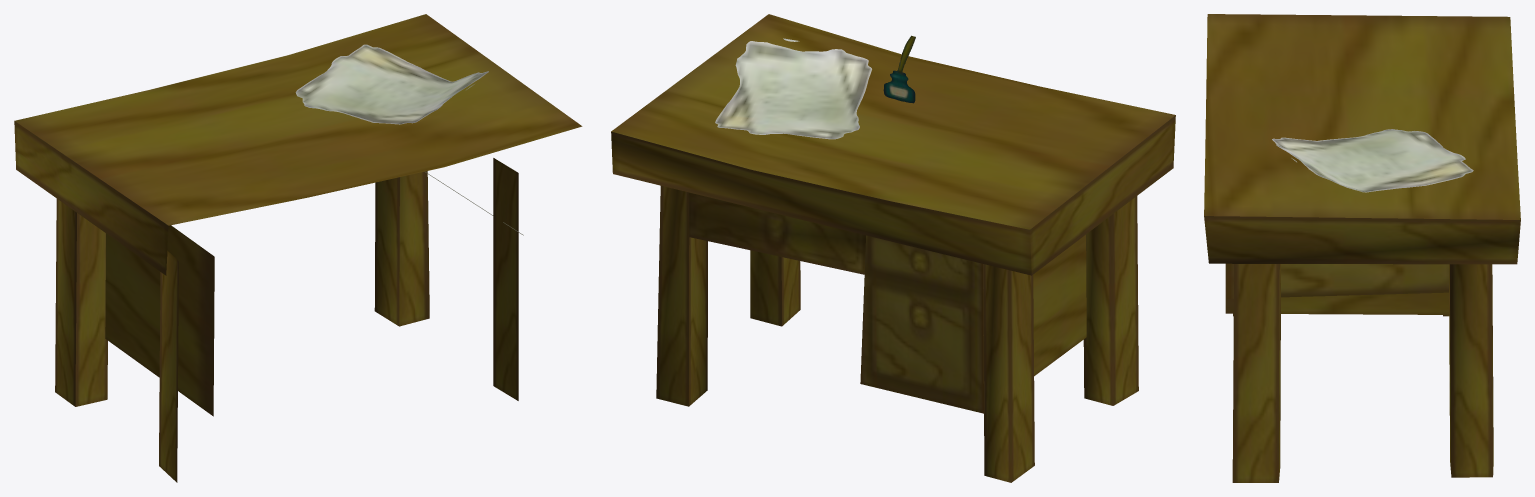
The model's file is desk_only_wo_phone.glb.
3 views of the same model, side by side, from view 1: azimuth 30°, elevation 25°; view 2: azimuth 150°, elevation 25°; view 3: azimuth 270°, elevation 25° (orthographic).
Visible parts, largest first — view 1: top, cabinet, leg1, stuff_on_desk, leg_L, leg_L2, leg2; view 2: top, cabinet, stuff_on_desk, leg1, leg2, leg_L, draw, leg_L2, ink_b__billboard; view 3: top, leg_L2, leg_L, stuff_on_desk, draw, cabinet.
Part boxes in pixels (bbox=[...]): top: bbox=[14, 14, 582, 275]; cabinet: bbox=[105, 225, 214, 416]; leg1: bbox=[55, 199, 107, 406]; stuff_on_desk: bbox=[295, 44, 488, 124]; leg_L: bbox=[374, 171, 429, 326]; leg_L2: bbox=[493, 158, 518, 400]; leg2: bbox=[159, 251, 178, 482]; top: bbox=[611, 14, 1175, 275]; cabinet: bbox=[860, 235, 1086, 413]; stuff_on_desk: bbox=[715, 38, 871, 139]; leg1: bbox=[983, 264, 1034, 482]; leg2: bbox=[1083, 196, 1138, 405]; leg_L: bbox=[656, 185, 707, 406]; draw: bbox=[688, 192, 865, 274]; leg_L2: bbox=[750, 250, 800, 326]; ink_b__billboard: bbox=[883, 35, 915, 103]; top: bbox=[1204, 14, 1520, 264]; leg_L2: bbox=[1232, 264, 1280, 482]; leg_L: bbox=[1449, 264, 1493, 477]; stuff_on_desk: bbox=[1272, 129, 1473, 192]; draw: bbox=[1227, 263, 1448, 298]; cabinet: bbox=[1225, 263, 1449, 314].
Bounding box in the file's own units: 3.98 × 3.08 × 2.61.
6 materials, 5 textured.
